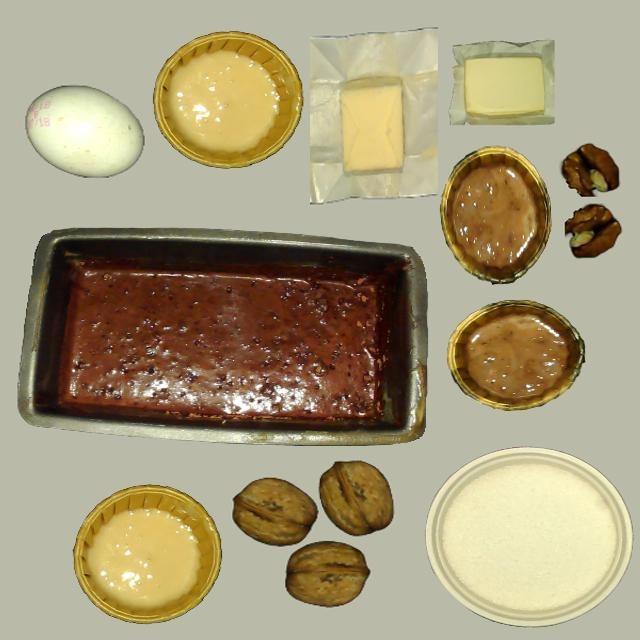Sugar: (440, 460, 616, 616)
Walnut: (232, 478, 318, 546), (320, 461, 394, 535), (286, 542, 369, 605)
